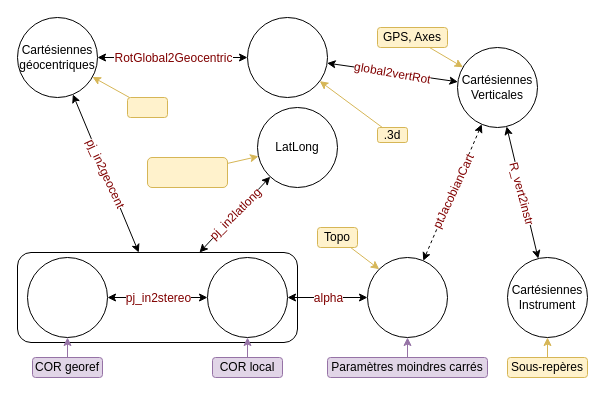
The diagram is 605 pixels wide and 395 high, and some of its shapes have lost their labels. The box of each missing label's shape, as (x1, y1, x2, y2) in pixels:
Cartésiennes Globales: (246, 16, 328, 98)
Leaflet Rotations Cart: (146, 156, 228, 188)
Proj user: (26, 256, 108, 338)
Sinex: (126, 96, 168, 118)
Sphériques: (366, 256, 448, 338)
Stéréo: (206, 256, 288, 338)
